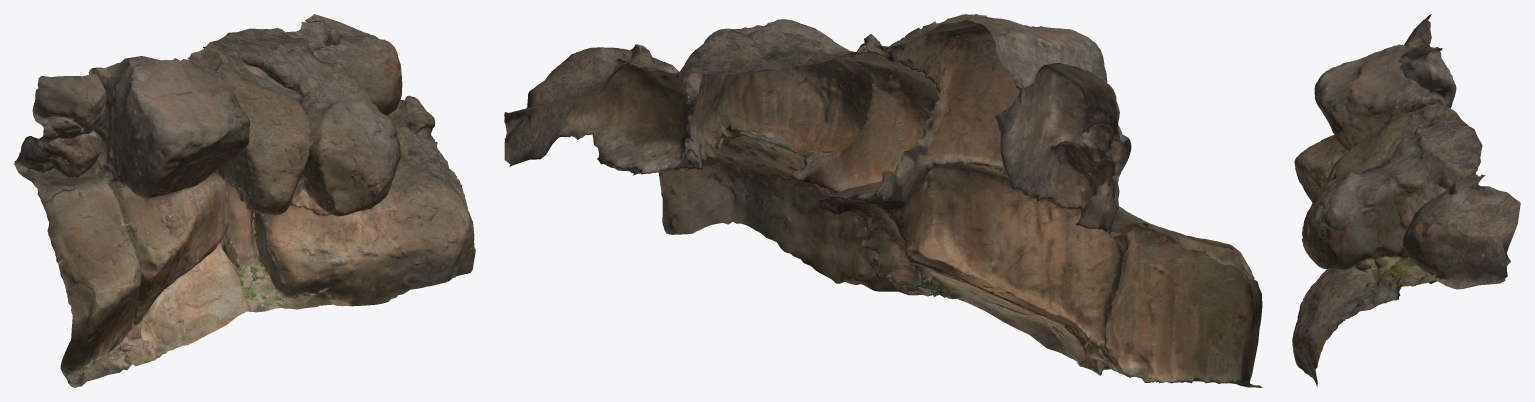
Rendered from namaqualand_cliff_01.glb.
The picture shows the model from 3 angles, left to right: view 1: azimuth 30°, elevation 25°; view 2: azimuth 150°, elevation 25°; view 3: azimuth 270°, elevation 25°; orthographic projection. The views are drawn at different scales.
Parts seen in each view (by area): view 1: drone_rock_01; view 2: drone_rock_01; view 3: drone_rock_01.
Part boxes in pixels (x1,y1,x2,y2): drone_rock_01: (14, 14, 475, 387); drone_rock_01: (504, 14, 1263, 387); drone_rock_01: (1292, 14, 1520, 387).
Bounding box in the file's own units: 8.28 × 4.96 × 4.39.
Materials: 1 (1 with a texture image).
